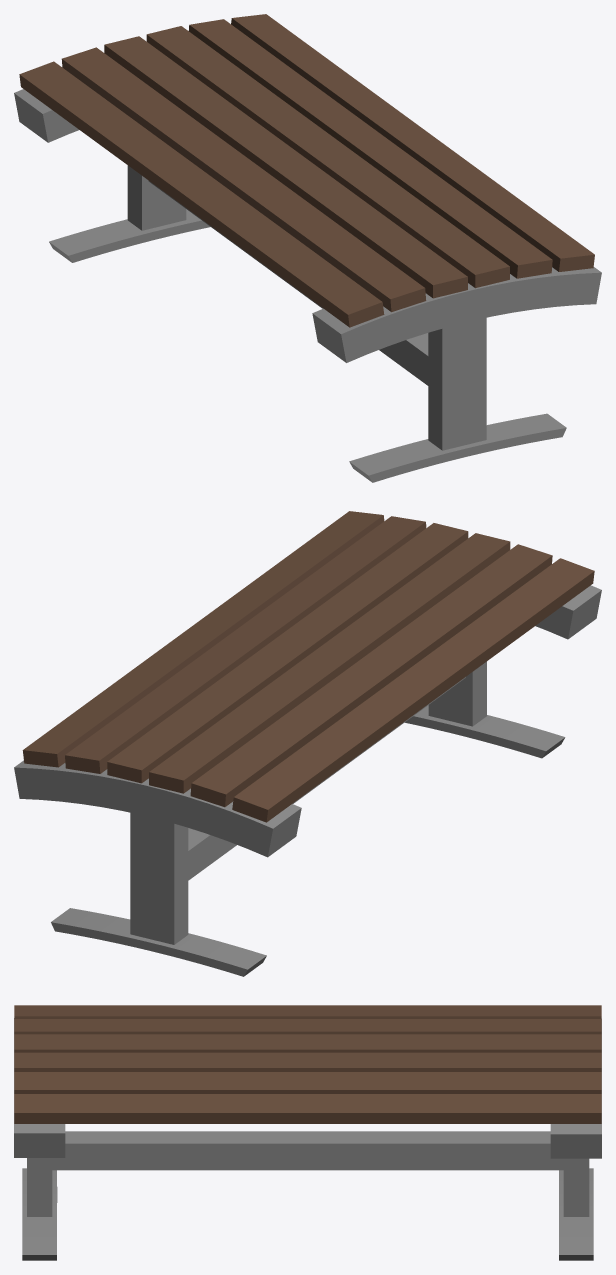
The model's file is Bench.fbx.
3 views of the same model, one above another, from view 1: azimuth 30°, elevation 25°; view 2: azimuth 150°, elevation 25°; view 3: azimuth 270°, elevation 25° (orthographic). The views are drawn at different scales.
Parts seen in each view (by area): view 1: Bench; view 2: Bench; view 3: Bench.
Boxes of the visible parts, x1,y1,x2,y2 form: Bench: [14, 14, 601, 482]; Bench: [14, 511, 601, 976]; Bench: [14, 1005, 601, 1260].
Bounding box in the file's own units: 88.81 × 60.65 × 193.
